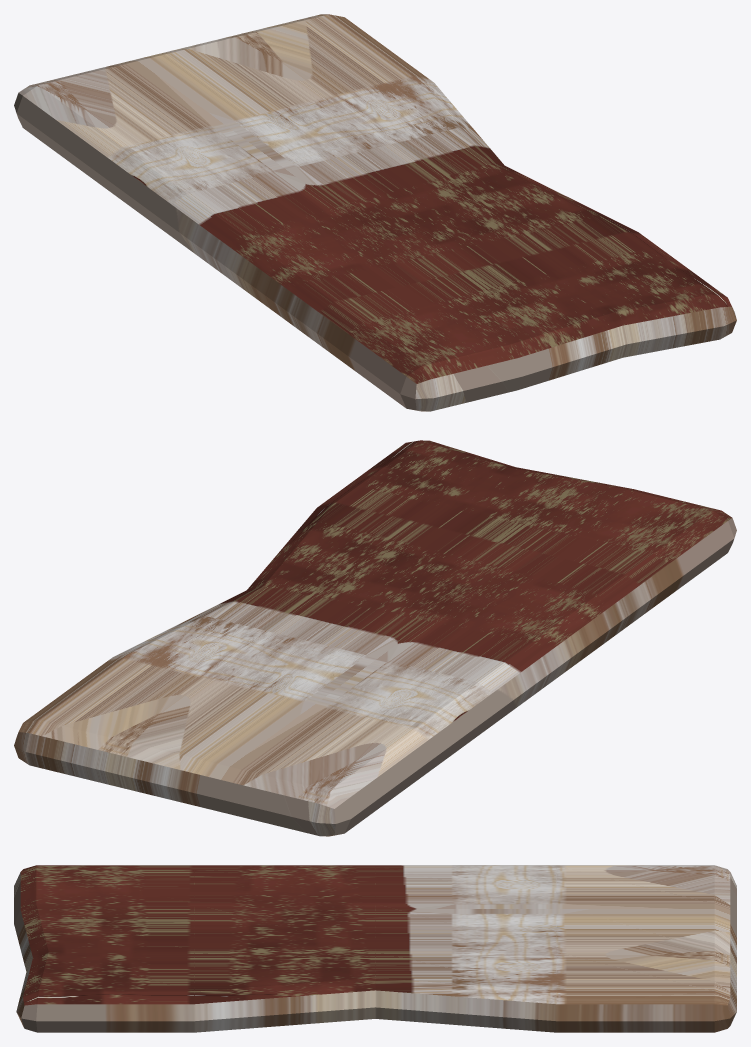
The model's file is _tag_res_mur_002.fbx.
The picture shows the model from 3 angles, top to bottom: view 1: azimuth 30°, elevation 25°; view 2: azimuth 150°, elevation 25°; view 3: azimuth 270°, elevation 25°; orthographic projection. The views are drawn at different scales.
Parts seen in each view (by area): view 1: étagères mur.002; view 2: étagères mur.002; view 3: étagères mur.002.
Part boxes in pixels (x1,y1,x2,y2): étagères mur.002: (14,14,736,411); étagères mur.002: (14,440,736,836); étagères mur.002: (14,865,736,1032).
Bounding box in the file's own units: 82.52 × 10.73 × 175.
